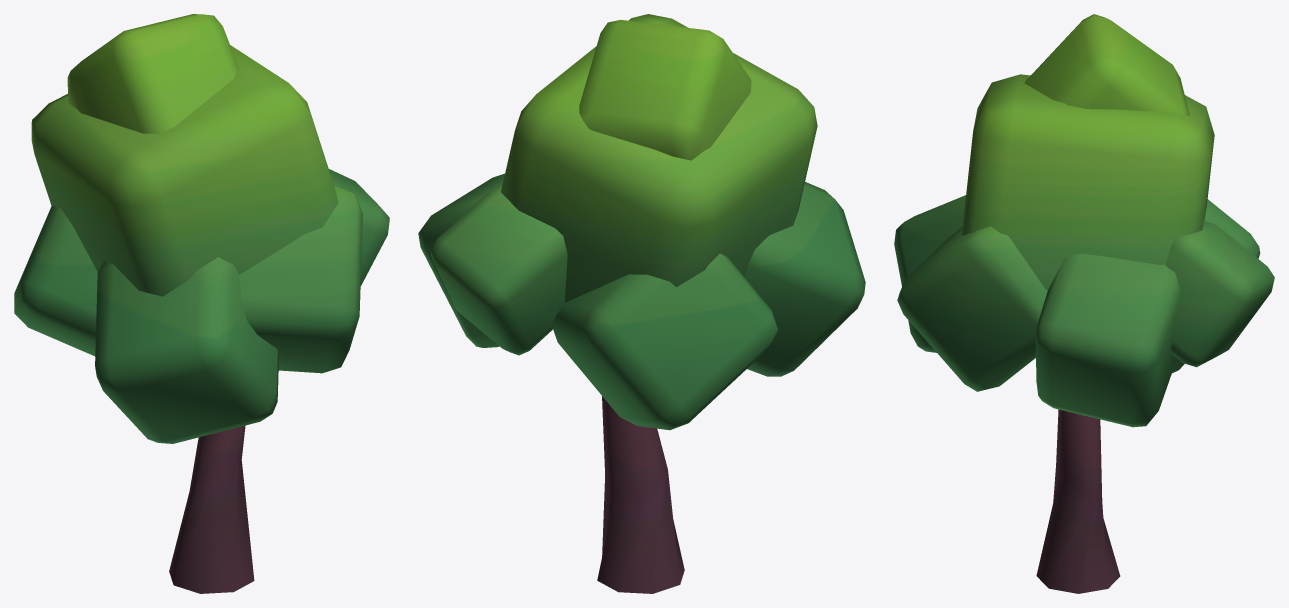
Rendered from Tree_19.fbx.
3 views of the same model, side by side, from view 1: azimuth 30°, elevation 25°; view 2: azimuth 150°, elevation 25°; view 3: azimuth 270°, elevation 25° (orthographic). The views are drawn at different scales.
Parts seen in each view (by area): view 1: Tree_19; view 2: Tree_19; view 3: Tree_19.
Boxes of the visible parts, x1=… form: Tree_19: x1=14, y1=14, x2=389, y2=593; Tree_19: x1=418, y1=14, x2=865, y2=593; Tree_19: x1=894, y1=14, x2=1274, y2=593.
Size of the model in its own units: 261 by 398 by 260.
